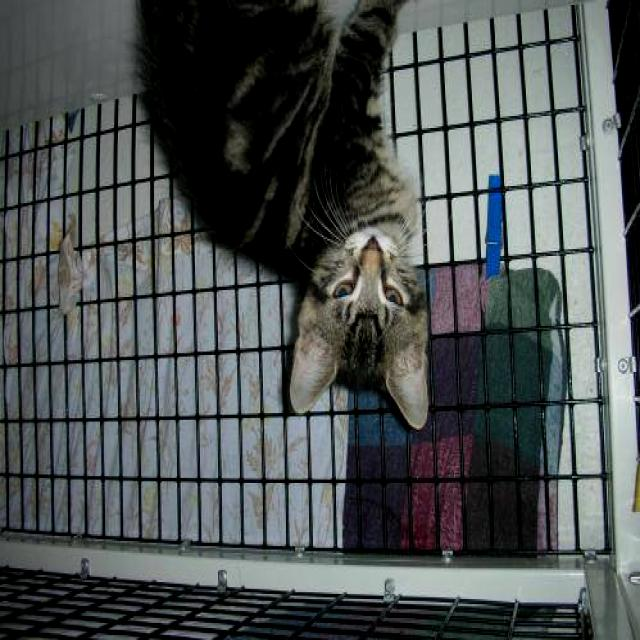Kucing: (74, 2, 515, 443)
